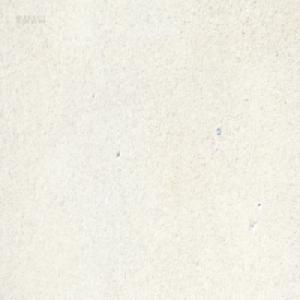Washer: (215, 125, 221, 136)
